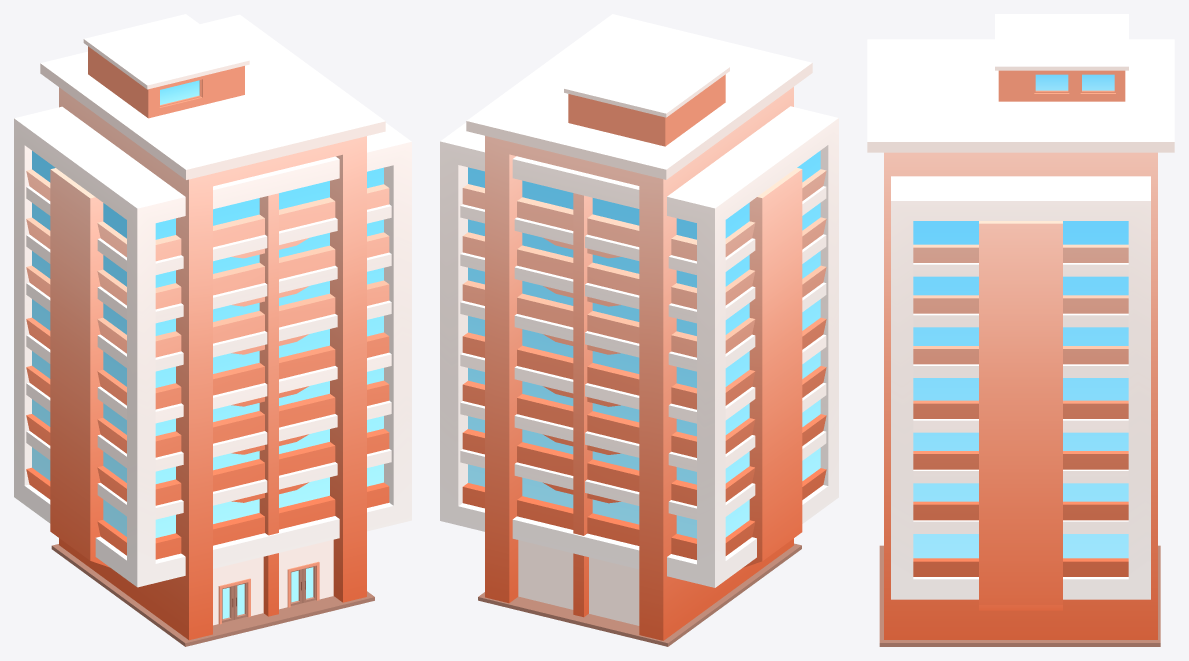
Rendered from Building_Living_59.glb.
3 views of the same model, side by side, from view 1: azimuth 30°, elevation 25°; view 2: azimuth 150°, elevation 25°; view 3: azimuth 270°, elevation 25° (orthographic). The views are drawn at different scales.
Parts seen in each view (by area): view 1: Building_Living_59; view 2: Building_Living_59; view 3: Building_Living_59.
Part boxes in pixels (box(x1,y1,x2,y2)): Building_Living_59: box(14, 14, 411, 646); Building_Living_59: box(440, 14, 838, 646); Building_Living_59: box(867, 14, 1174, 646).
Size of the model in its own units: 18.19 by 31.52 by 16.12.
Materials: 1 (1 with a texture image).
